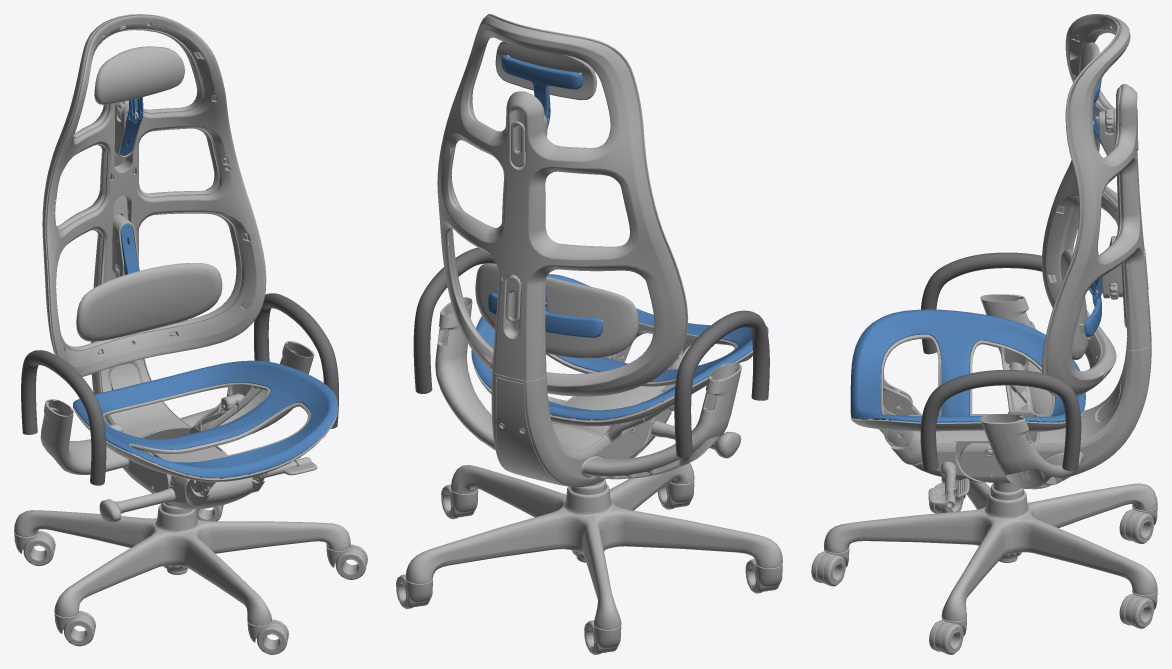
The model's file is chair_loop_blue_v2.glb.
The picture shows the model from 3 angles, left to right: view 1: azimuth 30°, elevation 25°; view 2: azimuth 150°, elevation 25°; view 3: azimuth 270°, elevation 25°; orthographic projection. The views are drawn at different scales.
Parts seen in each view (by area): view 1: GRUPPO_SCHIENALE, 5S_BASE, SEDILE, Mesh_32, BRACCIOLI, BB-MECC_E_SEDILE, Mesh_37, Loop_Arm_L, ASSIEME_REGOLAZIONI_SCHIENALE, Loop_Arm_R; view 2: GRUPPO_SCHIENALE, 5S_BASE, BRACCIOLI, SEDILE, Mesh_32, Loop_Arm_L, ASSIEME_REGOLAZIONI_SCHIENALE, BB-MECC_E_SEDILE, Loop_Arm_R, Mesh_37; view 3: GRUPPO_SCHIENALE, 5S_BASE, SEDILE, BRACCIOLI, Loop_Arm_R, BB-MECC_E_SEDILE, Loop_Arm_L, ASSIEME_REGOLAZIONI_SCHIENALE, Mesh_32.
Part boxes in pixels (x1,y1,x2,y2): GRUPPO_SCHIENALE: [42, 14, 266, 493]; 5S_BASE: [14, 502, 367, 654]; SEDILE: [73, 360, 337, 492]; Mesh_32: [76, 263, 222, 341]; BRACCIOLI: [40, 341, 314, 474]; BB-MECC_E_SEDILE: [99, 446, 317, 522]; Mesh_37: [94, 46, 184, 104]; Loop_Arm_L: [21, 350, 106, 485]; ASSIEME_REGOLAZIONI_SCHIENALE: [112, 97, 143, 277]; Loop_Arm_R: [254, 293, 338, 428]; GRUPPO_SCHIENALE: [437, 14, 688, 487]; 5S_BASE: [396, 463, 782, 654]; BRACCIOLI: [435, 297, 741, 479]; SEDILE: [471, 274, 768, 426]; Mesh_32: [475, 263, 638, 358]; Loop_Arm_L: [674, 310, 769, 457]; ASSIEME_REGOLAZIONI_SCHIENALE: [488, 55, 602, 337]; BB-MECC_E_SEDILE: [549, 355, 741, 458]; Loop_Arm_R: [413, 247, 495, 393]; Mesh_37: [495, 41, 596, 100]; GRUPPO_SCHIENALE: [959, 14, 1151, 482]; 5S_BASE: [811, 477, 1157, 654]; SEDILE: [850, 309, 1085, 446]; BRACCIOLI: [980, 294, 1083, 489]; Loop_Arm_R: [920, 370, 1081, 471]; BB-MECC_E_SEDILE: [884, 404, 990, 508]; Loop_Arm_L: [921, 252, 1042, 354]; ASSIEME_REGOLAZIONI_SCHIENALE: [1084, 79, 1148, 336]; Mesh_32: [1060, 249, 1088, 360].
Bounding box in the file's own units: 0.7525 × 1.25 × 0.7114.
